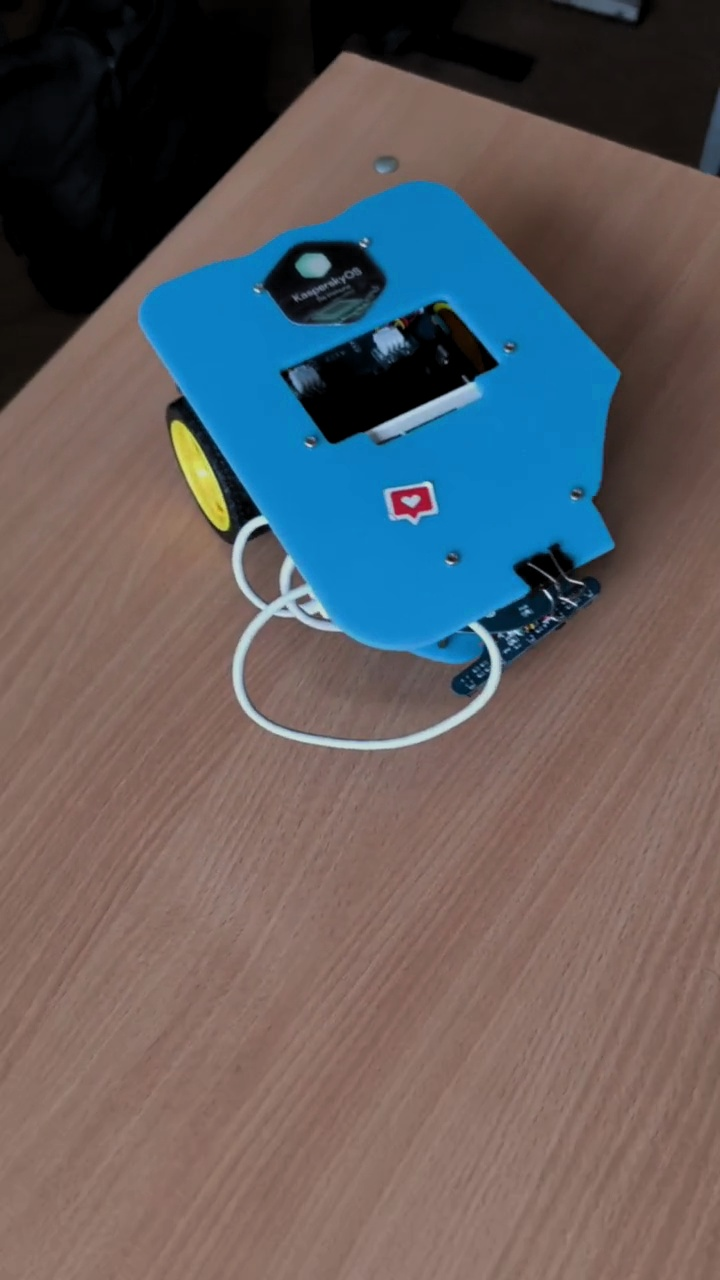robot: (135, 177, 625, 752)
